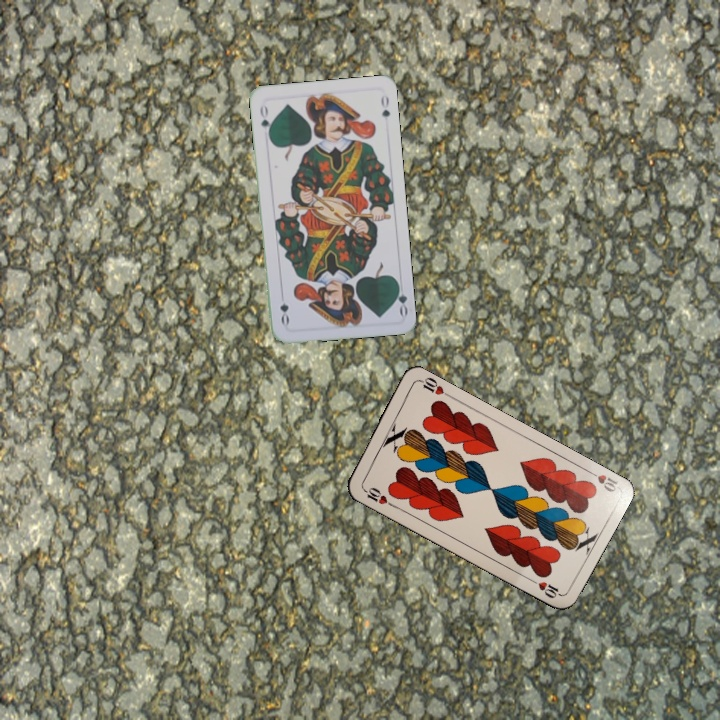GO: (391, 277, 410, 318), (256, 100, 274, 140)
H10: (583, 466, 620, 495), (358, 483, 396, 509)
